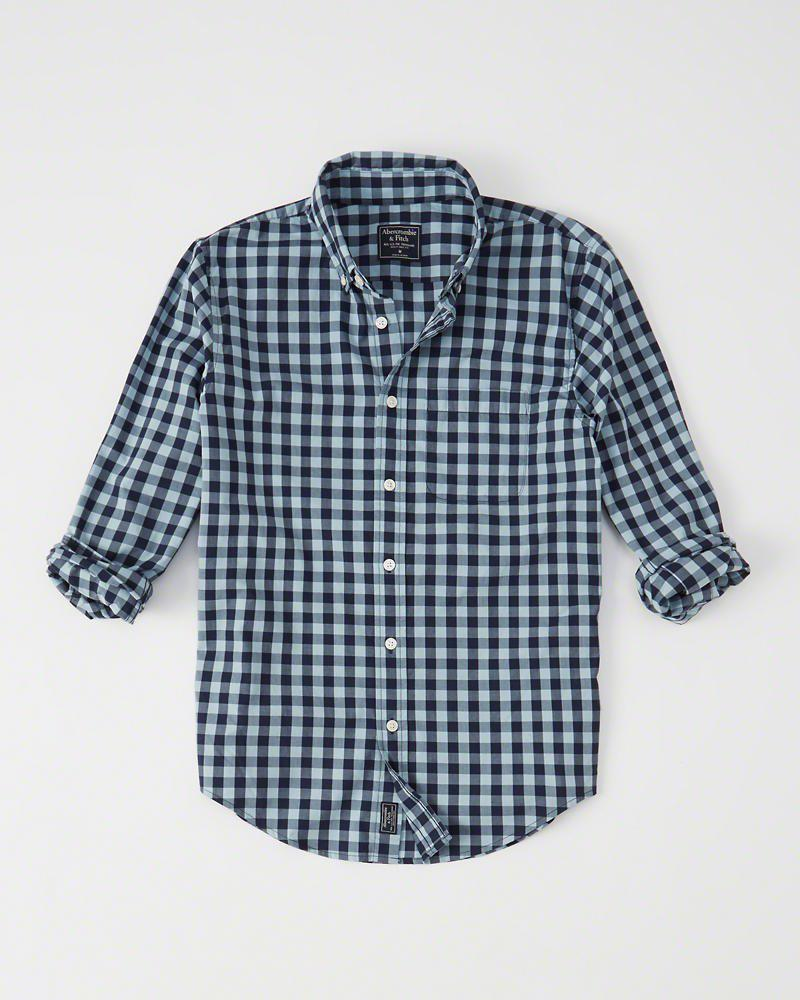teeshirt: (49, 143, 752, 887)
